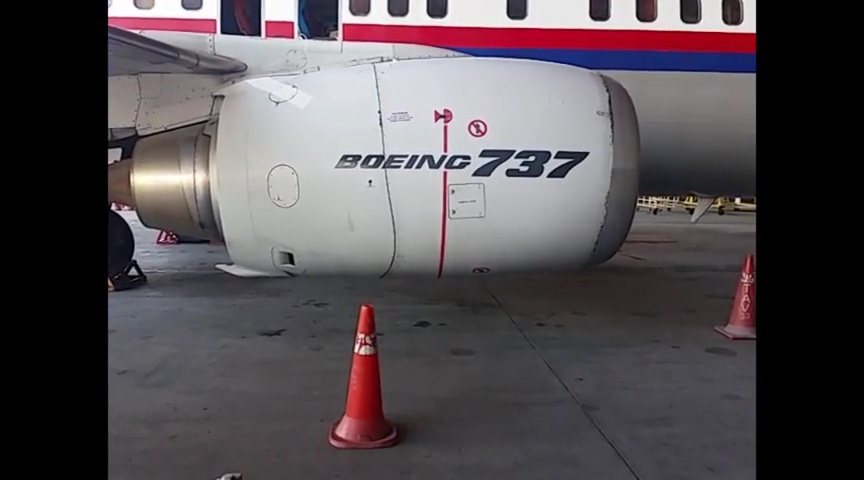safety_cone: (326, 303, 400, 452), (714, 252, 756, 341)
